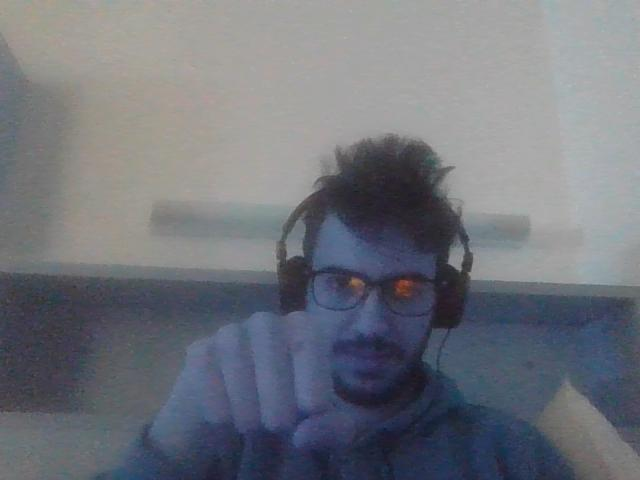yes: (185, 309, 361, 450)
